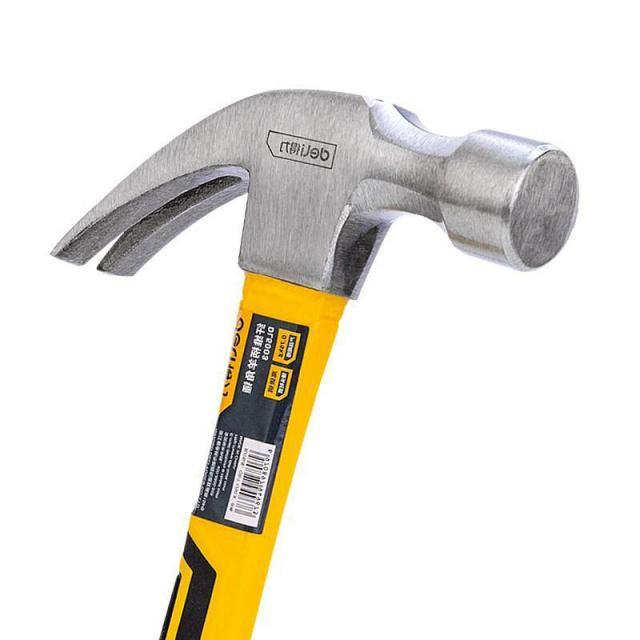hammer: (42, 80, 586, 640)
